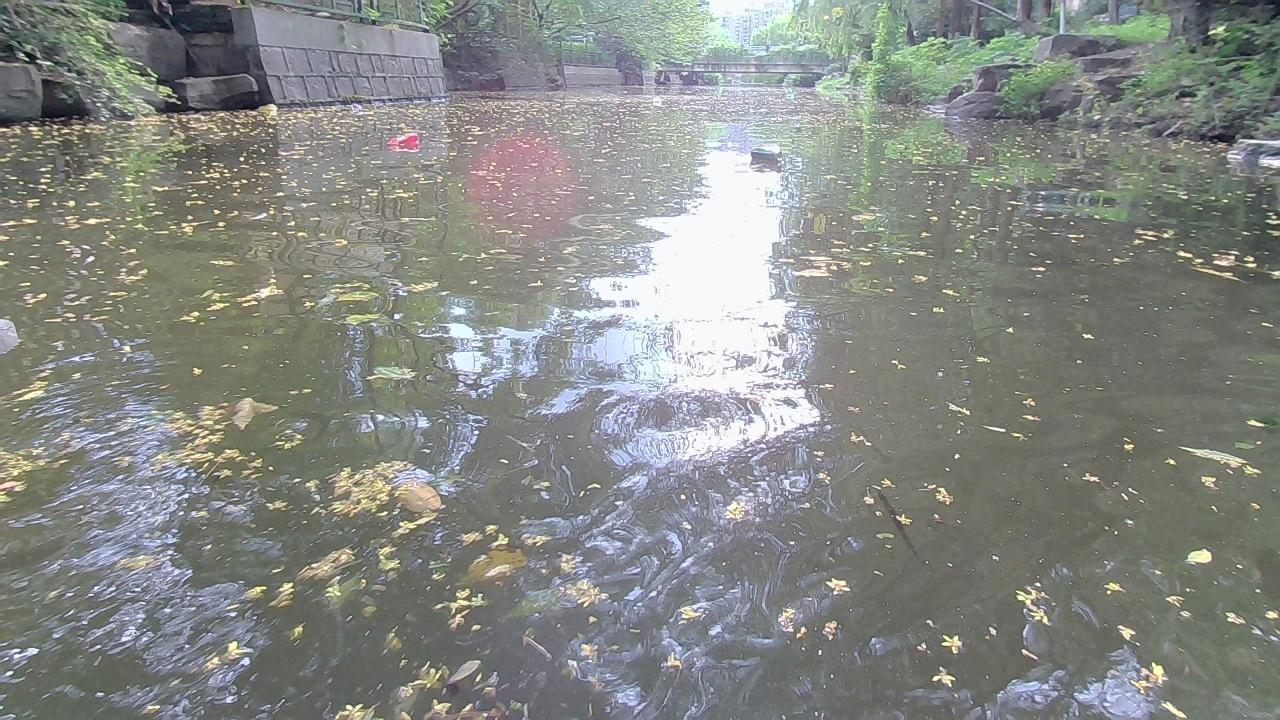bottle: (747, 142, 785, 161), (385, 133, 422, 152), (348, 103, 362, 109)
